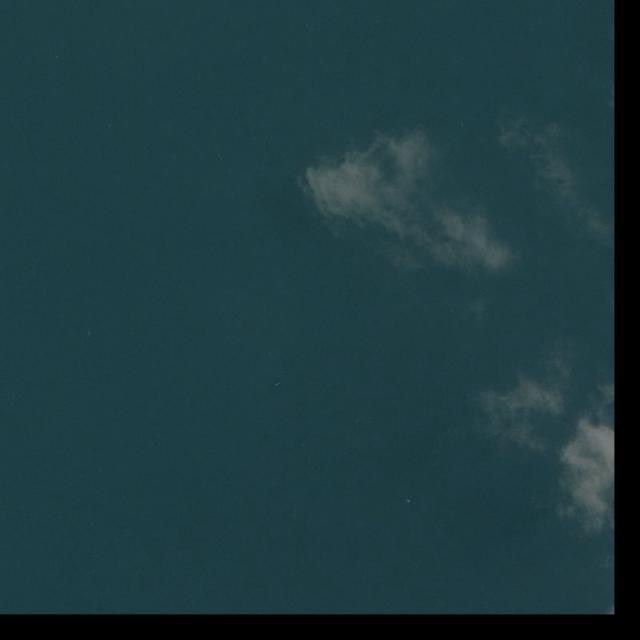ship: (275, 382, 282, 387)
